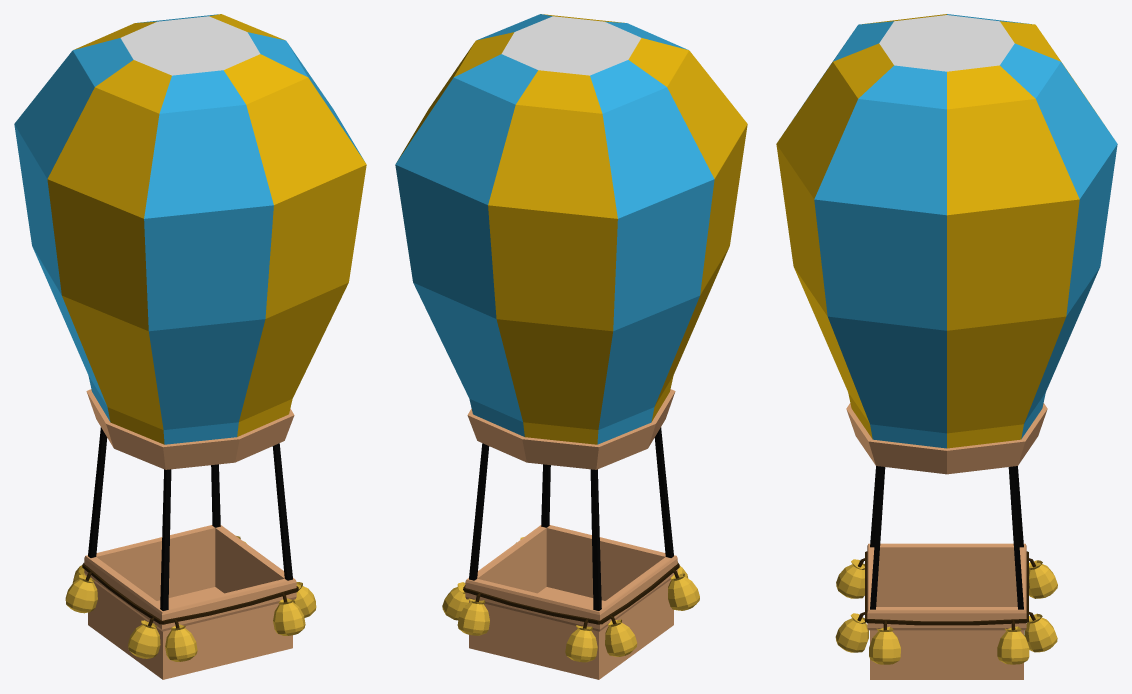
File: HotAir.fbx
3 views of the same model, side by side, from view 1: azimuth 30°, elevation 25°; view 2: azimuth 150°, elevation 25°; view 3: azimuth 270°, elevation 25° (orthographic). The views are drawn at different scales.
Visible parts, largest first — view 1: Cube.090, Cylinder.016, Cylinder.007, Cylinder.014, Cylinder.015; view 2: Cube.090, Cylinder.008, Cylinder.010, Cylinder.007, Cylinder.016, Cylinder.012; view 3: Cube.090, Cylinder.012, Cylinder.013, Cylinder.014, Cylinder.010, Cylinder.015, Cylinder.008.
Boxes of the visible parts, x1,y1,x2,y2 form: Cube.090: (14,14,366,679); Cylinder.016: (128,617,160,658); Cylinder.007: (65,571,97,613); Cylinder.014: (273,593,305,635); Cylinder.015: (165,619,197,661); Cube.090: (395,14,747,679); Cylinder.008: (565,619,597,662); Cylinder.010: (457,592,489,635); Cylinder.007: (605,615,637,656); Cylinder.016: (668,569,699,610); Cylinder.012: (442,582,468,620); Cube.090: (776,14,1117,679); Cylinder.012: (997,620,1029,664); Cylinder.013: (869,620,900,664); Cylinder.014: (835,612,868,652); Cylinder.010: (1024,611,1057,652); Cylinder.015: (836,558,865,598); Cylinder.008: (1029,558,1057,598).
Size of the model in its own units: 258 by 509 by 261.
